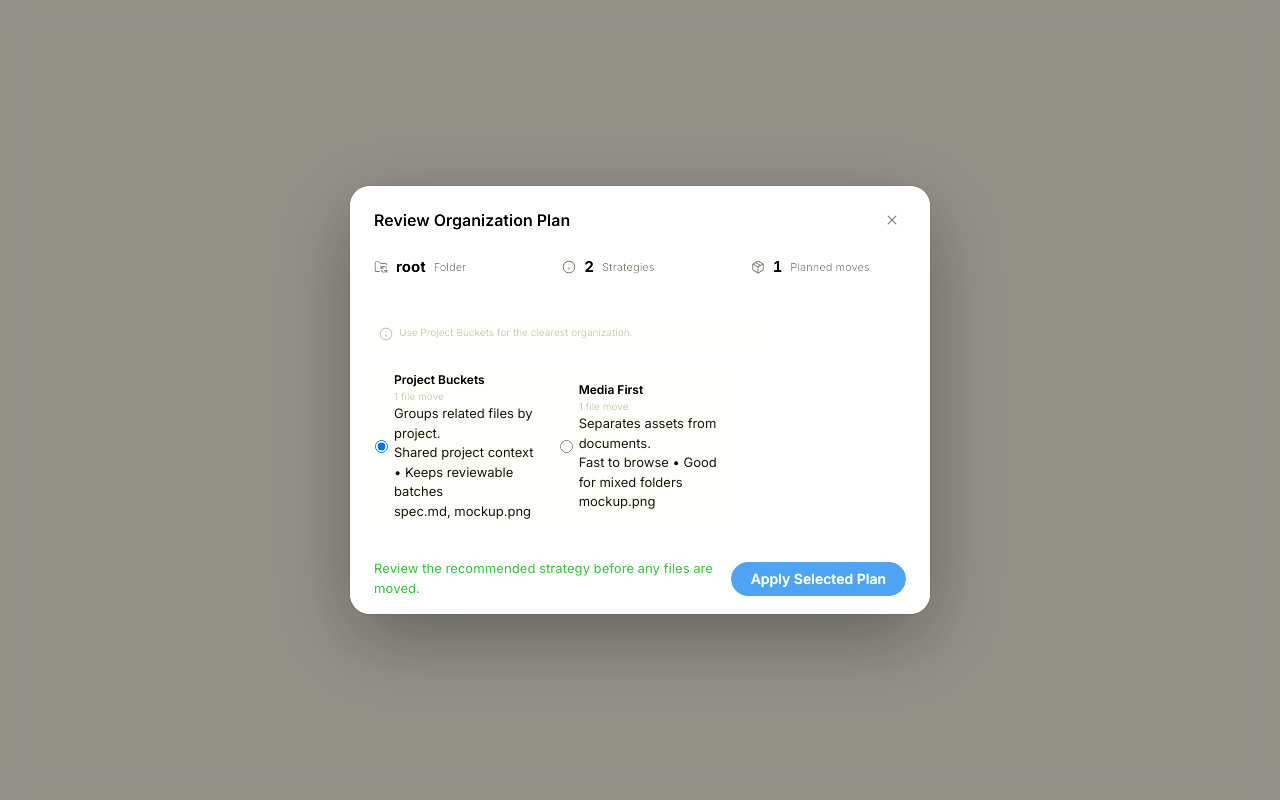
Test: OrganizeModal › applies the selected strategy and renders a truthful success summary
This screenshot has width=1280, height=800.
Expected: the text "Project Buckets" is shown, [394, 372, 485, 387]
Click the radio button labelled "Media First".
click(566, 446)  # box [560, 440, 573, 453]
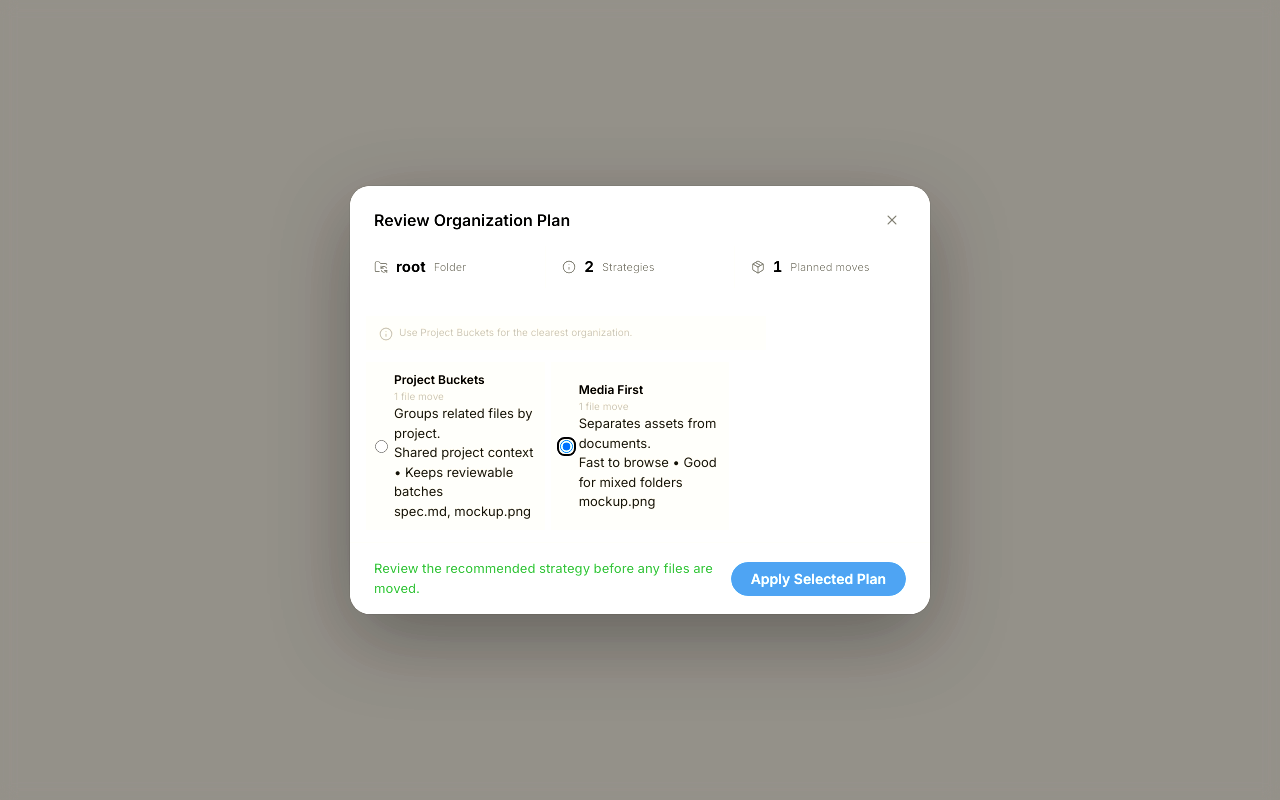
Click the button "Apply Selected Plan".
click(818, 579)  # box [731, 562, 906, 596]
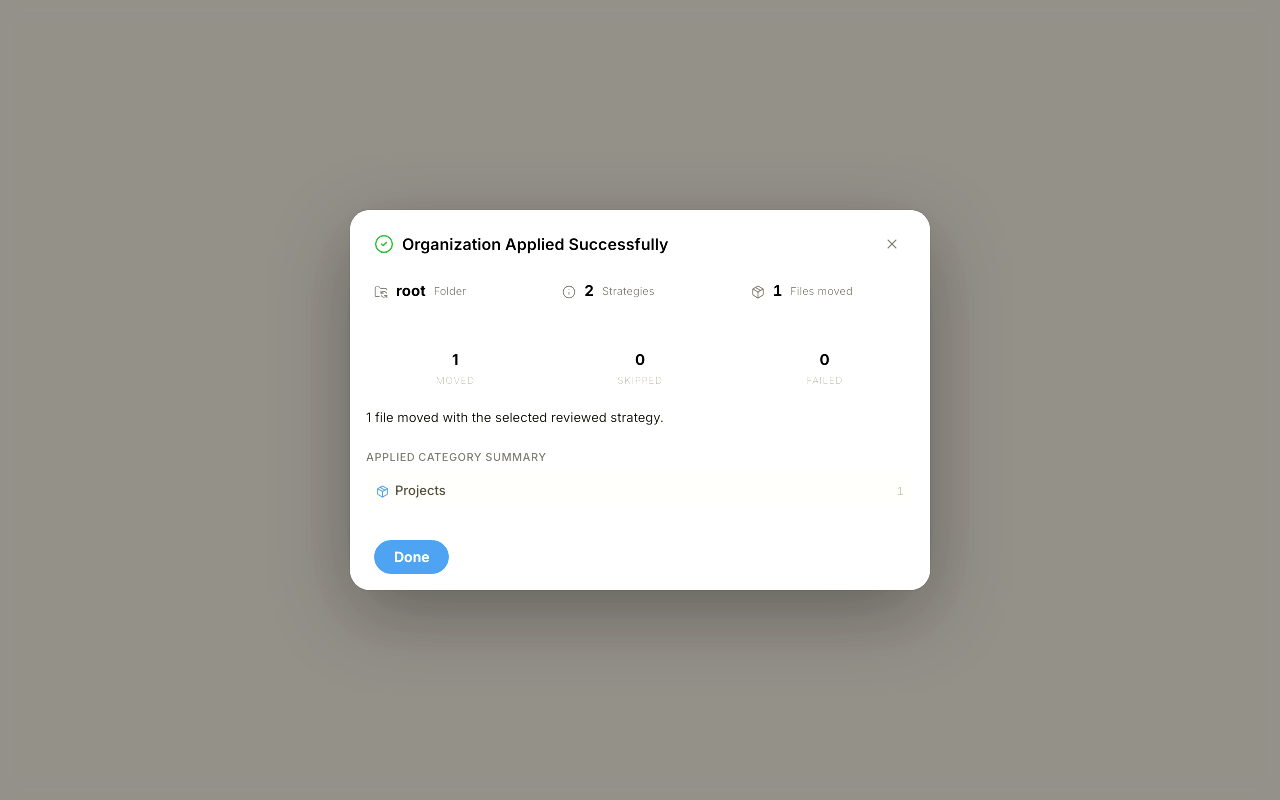
Result: the heading "Organization Applied Successfully" is shown at [374, 232, 668, 256]
Result: the text "1 file moved with the selected reviewed strategy." is shown at [366, 409, 664, 425]
Result: the text "Projects" is shown at [395, 482, 446, 498]
